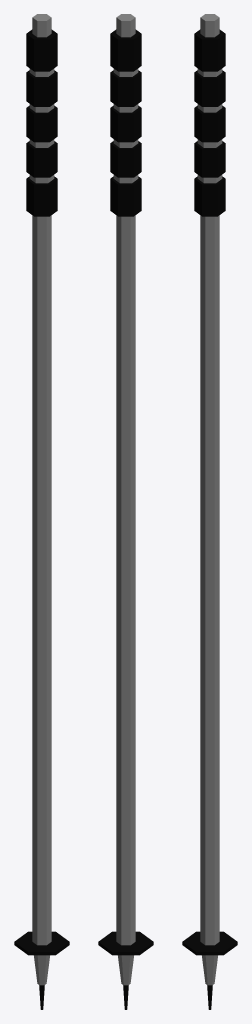
Rendered from Skier_2_Poles_Right.fbx.
3 renders of one model, left to right at view 1: azimuth 30°, elevation 25°; view 2: azimuth 150°, elevation 25°; view 3: azimuth 330°, elevation 25°, orthographic.
Visible parts, largest first — view 1: Skier_2_Poles_Right; view 2: Skier_2_Poles_Right; view 3: Skier_2_Poles_Right.
Part boxes in pixels (bbox=[...]): Skier_2_Poles_Right: bbox=[14, 14, 69, 1009]; Skier_2_Poles_Right: bbox=[98, 14, 153, 1009]; Skier_2_Poles_Right: bbox=[182, 14, 237, 1009].
Size of the model in its own units: 6.01 by 137 by 6.94.
